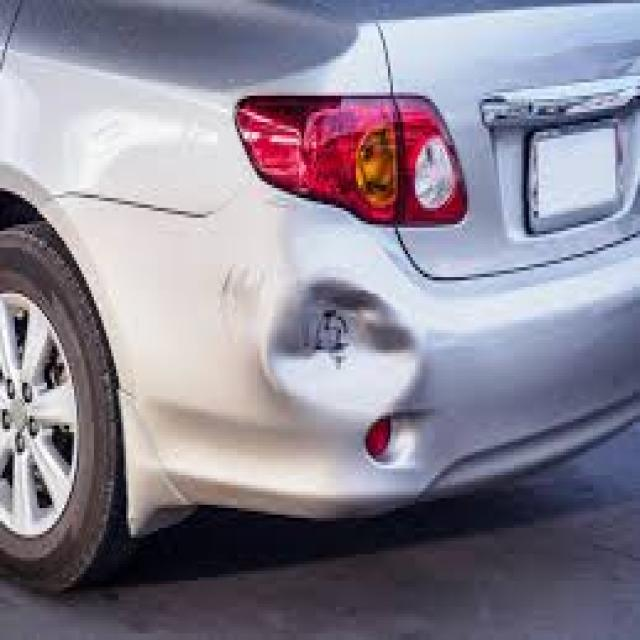Dent: (240, 219, 428, 437)
